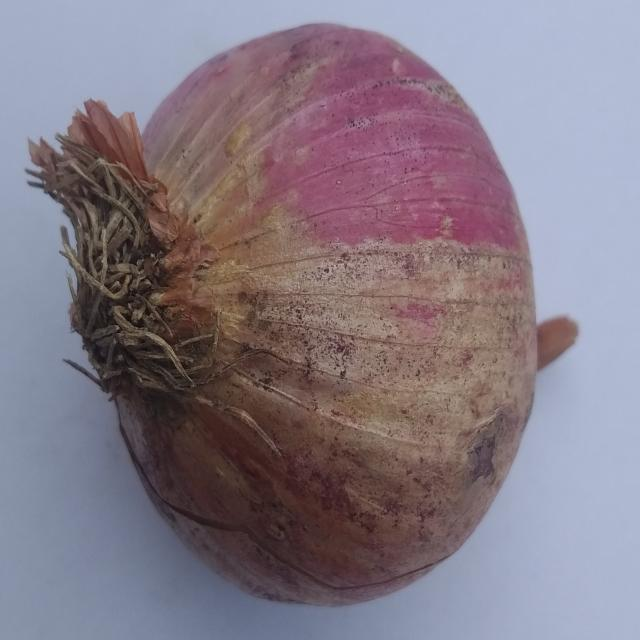onion: (23, 18, 578, 608)
